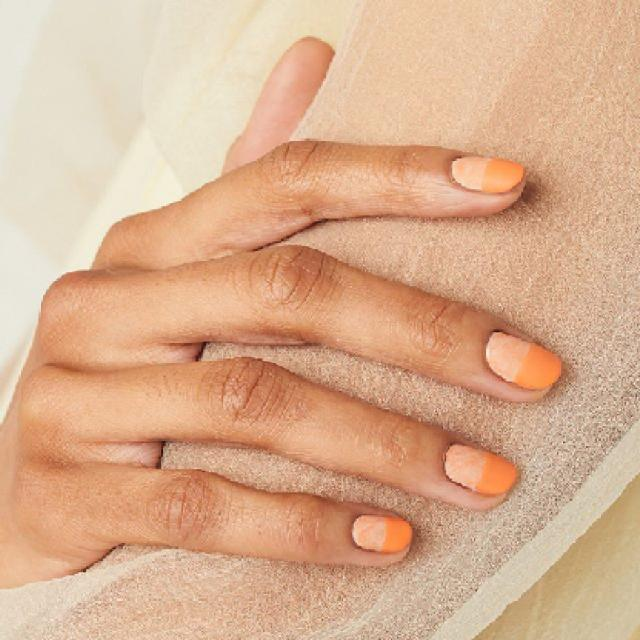Nail: (485, 331, 561, 389), (444, 444, 518, 496), (451, 156, 525, 194), (351, 515, 412, 553)
